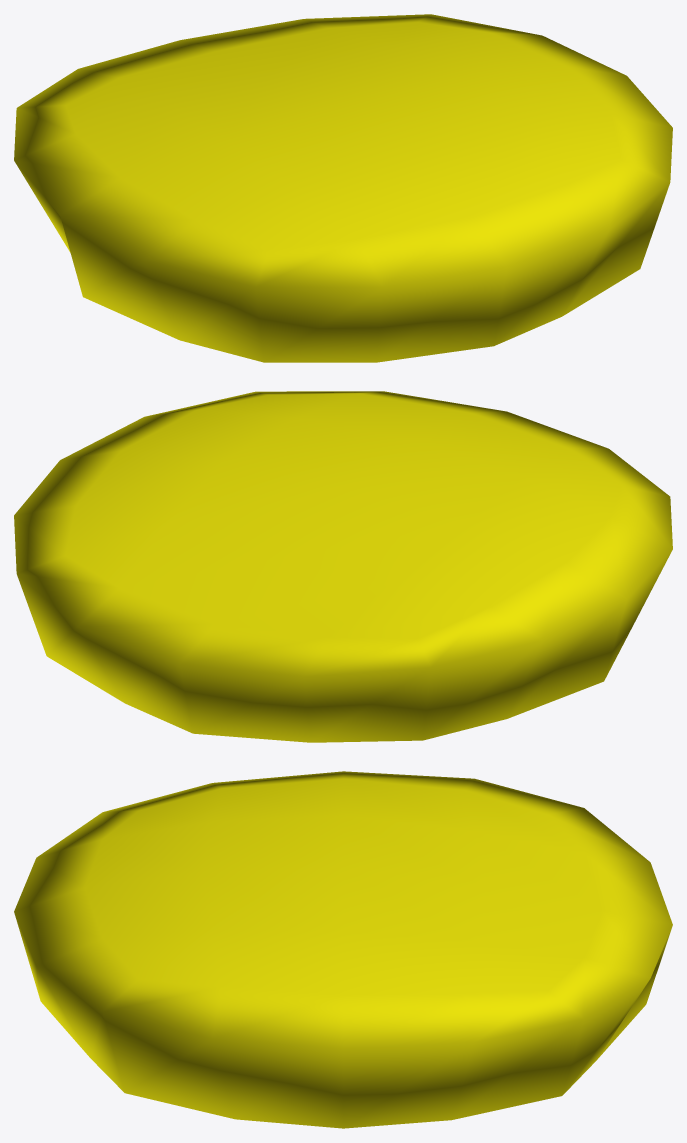
File: Island.fbx
3 views of the same model, one above another, from view 1: azimuth 30°, elevation 25°; view 2: azimuth 150°, elevation 25°; view 3: azimuth 270°, elevation 25° (orthographic).
Visible parts, largest first — view 1: Island; view 2: Island; view 3: Island.
Part boxes in pixels (left/top/right/bottom): Island: left=14, top=14, right=672, bottom=362; Island: left=14, top=391, right=672, bottom=742; Island: left=14, top=771, right=672, bottom=1128.
Bounding box in the file's own units: 2126 × 695 × 2126.
